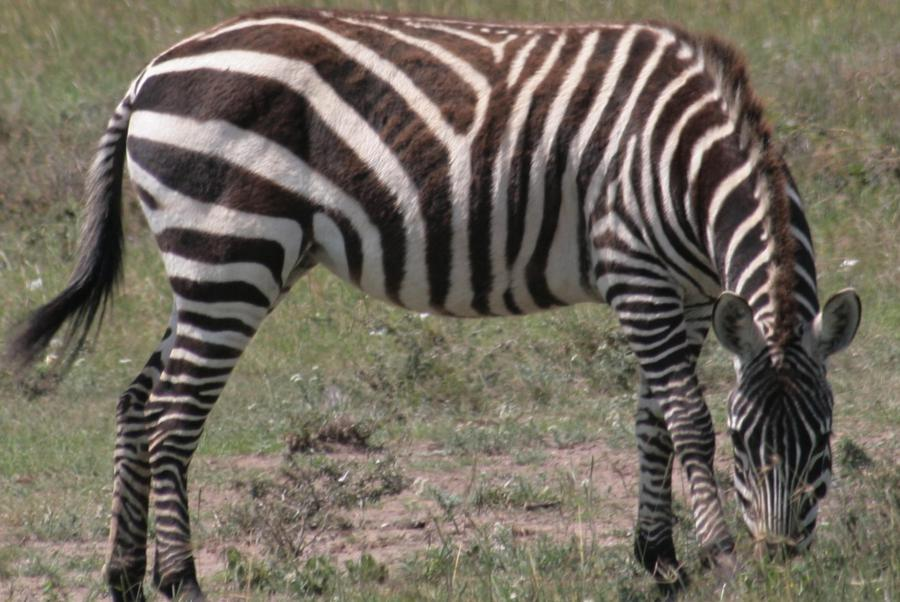zebra_plains: (132, 17, 727, 348)
